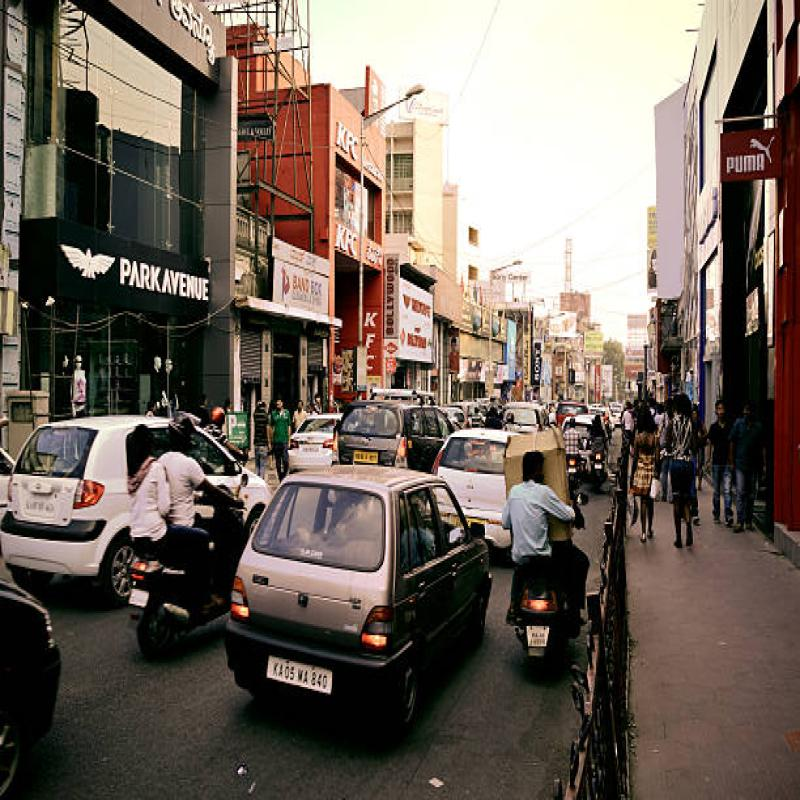bike: (126, 561, 236, 657)
car: (241, 460, 470, 716), (24, 400, 177, 526), (439, 420, 529, 530)
